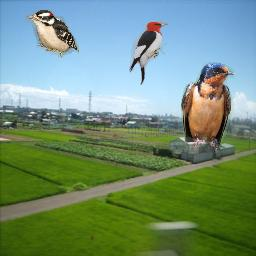Swallow: (181, 62, 234, 154)
Woodpecker: (25, 10, 79, 58), (129, 21, 168, 85)
